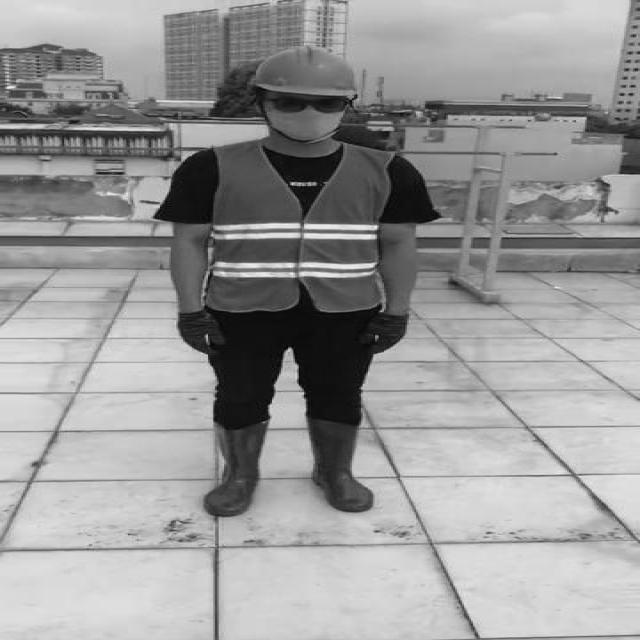boots: (202, 421, 268, 516), (309, 421, 372, 512)
face_mask: (262, 90, 348, 140)
glasses: (260, 93, 358, 116)
hand_glove: (178, 312, 226, 356), (363, 314, 409, 356)
head_helmet: (252, 44, 364, 98)
person: (154, 41, 433, 524)
vest: (206, 142, 386, 314)
